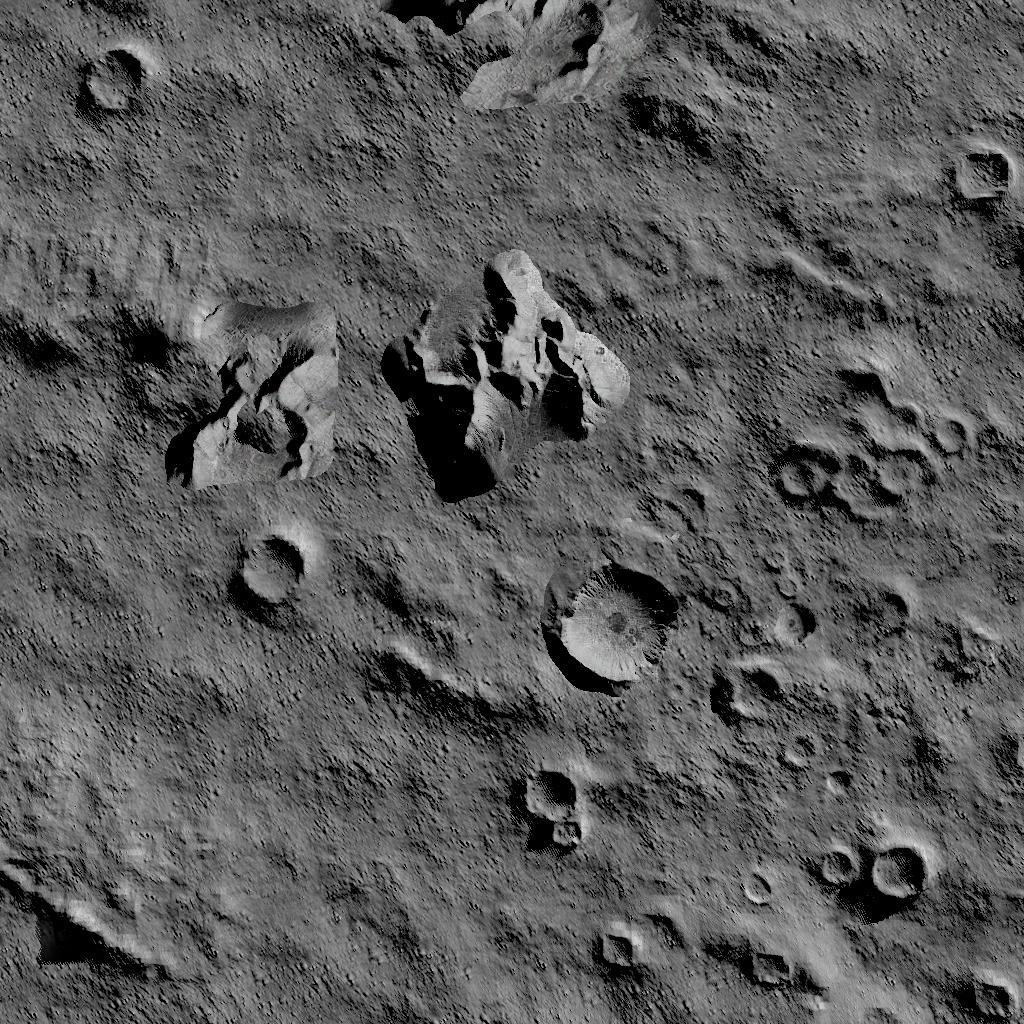Boulders: (0, 218, 340, 490), (366, 0, 800, 181), (378, 242, 632, 510), (0, 858, 164, 996), (354, 638, 524, 759), (340, 534, 472, 632), (85, 0, 198, 35)
Crater: (761, 338, 972, 542), (543, 552, 686, 700), (717, 598, 825, 734), (812, 836, 936, 920), (228, 524, 322, 622), (70, 46, 160, 128), (508, 772, 596, 855), (588, 907, 690, 975), (947, 144, 1014, 222), (948, 960, 1024, 1024), (943, 618, 1001, 687), (741, 936, 798, 996), (861, 584, 913, 648), (989, 724, 1024, 788)
Plan surface: (10, 510, 216, 836), (228, 788, 492, 1024), (211, 0, 347, 213), (821, 0, 1024, 131), (229, 643, 347, 775)
